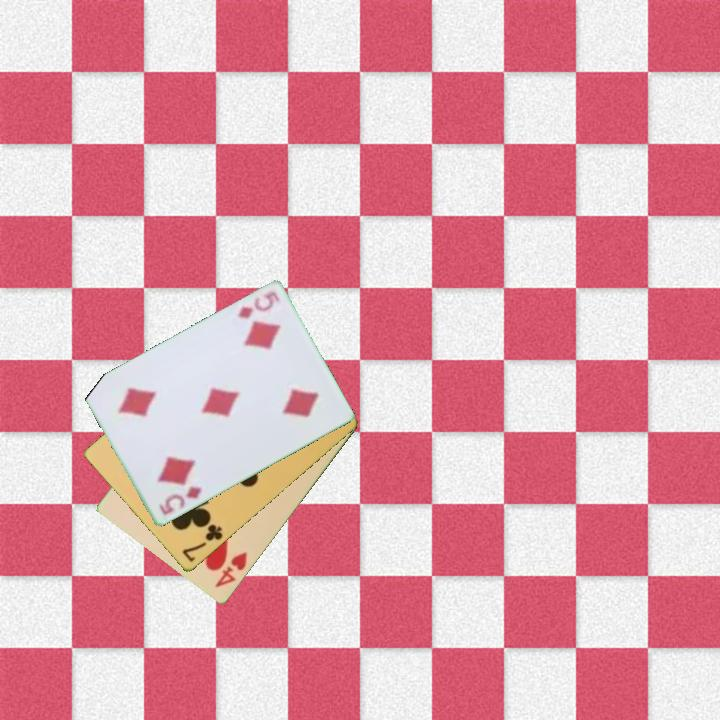4h: (211, 549, 250, 591)
5d: (155, 482, 205, 518), (234, 288, 282, 322)
7c: (179, 521, 226, 565)
